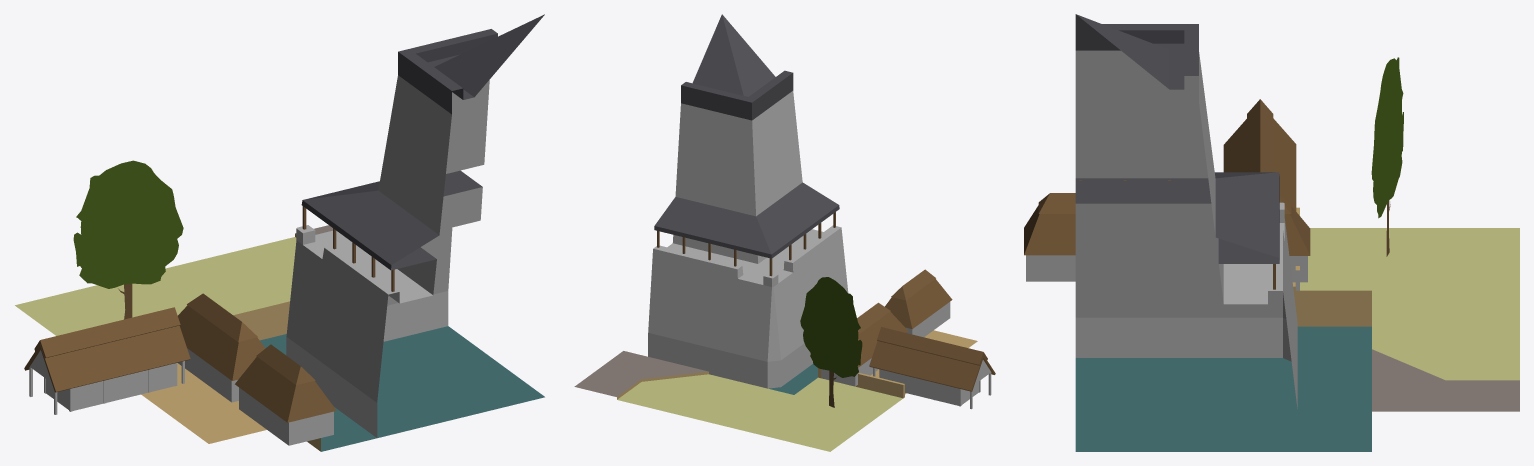
File: wrc1.obj
The picture shows the model from 3 angles, left to right: view 1: azimuth 30°, elevation 25°; view 2: azimuth 150°, elevation 25°; view 3: azimuth 270°, elevation 25°; orthographic projection. The views are drawn at different scales.
Parts seen in each view (by area): view 1: wrc1; view 2: wrc1; view 3: wrc1.
Part boxes in pixels (x1,y1,x2,y2): wrc1: [15, 14, 544, 451]; wrc1: [574, 14, 995, 451]; wrc1: [1024, 14, 1519, 451].
Size of the model in its own units: 37.84 by 32.63 by 33.48.
